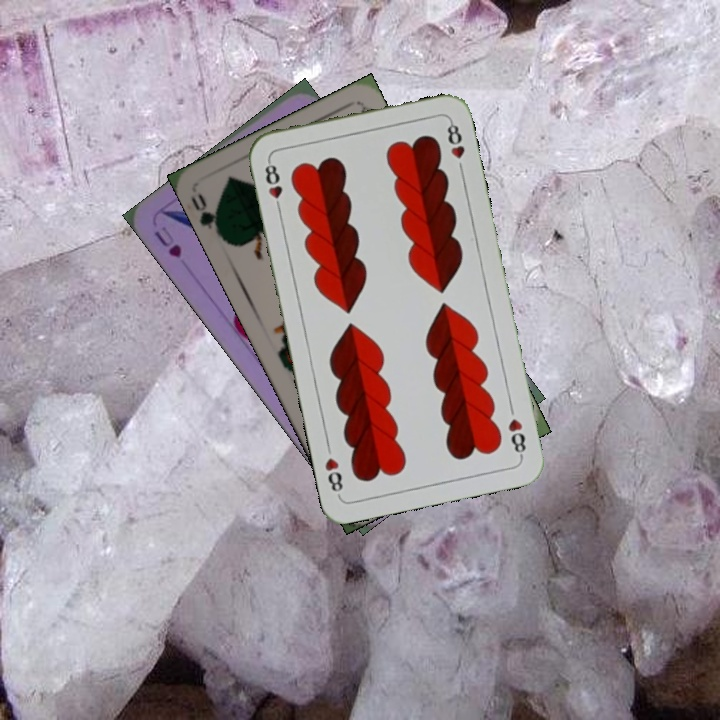GO: (187, 189, 226, 242)
H8: (261, 156, 285, 215), (504, 414, 529, 460)
HU: (149, 222, 185, 261)
